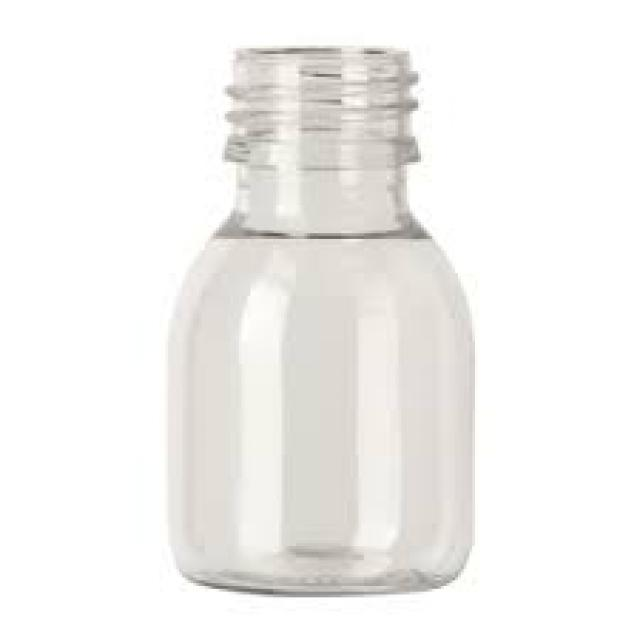Glass-Non-Biodegradable but Recyclable-: (166, 49, 478, 603)
